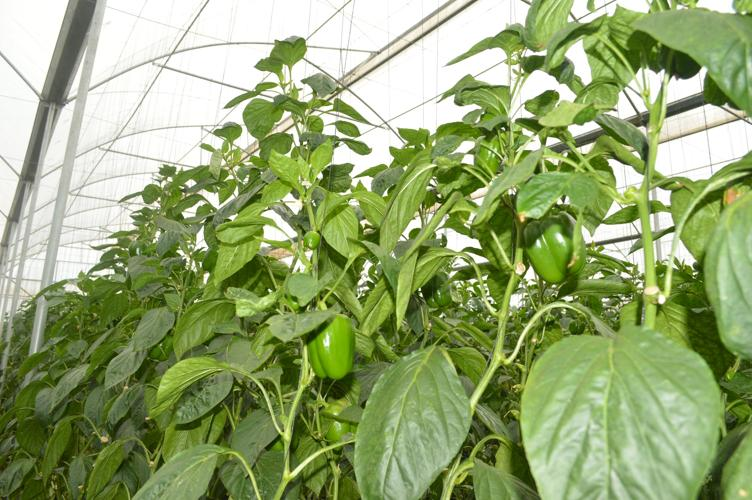BellPepper: (517, 212, 600, 292), (292, 312, 376, 386), (302, 228, 327, 259)
